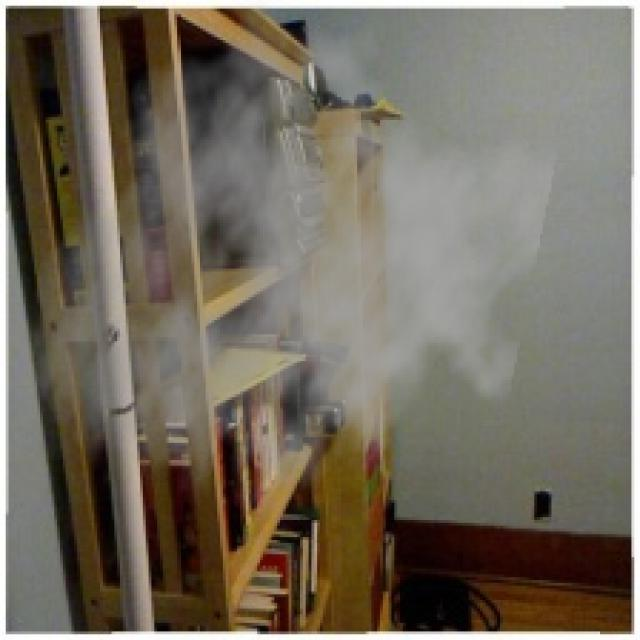Smoke: (26, 0, 560, 546)
